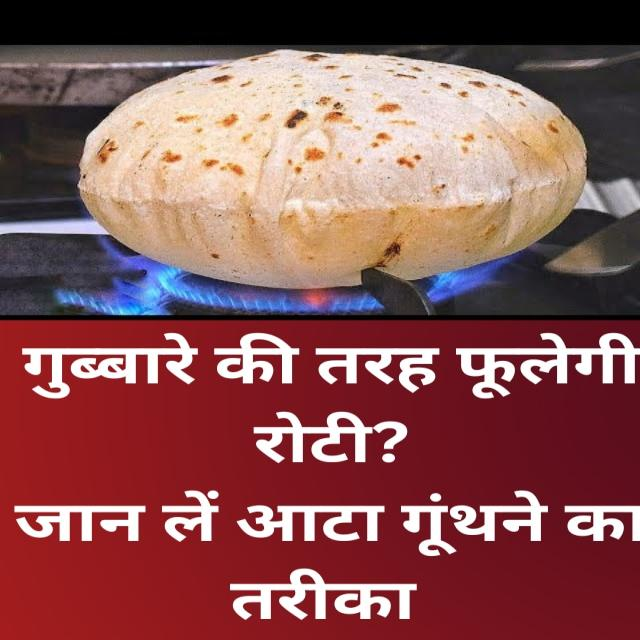ROTI: (79, 50, 585, 288)
